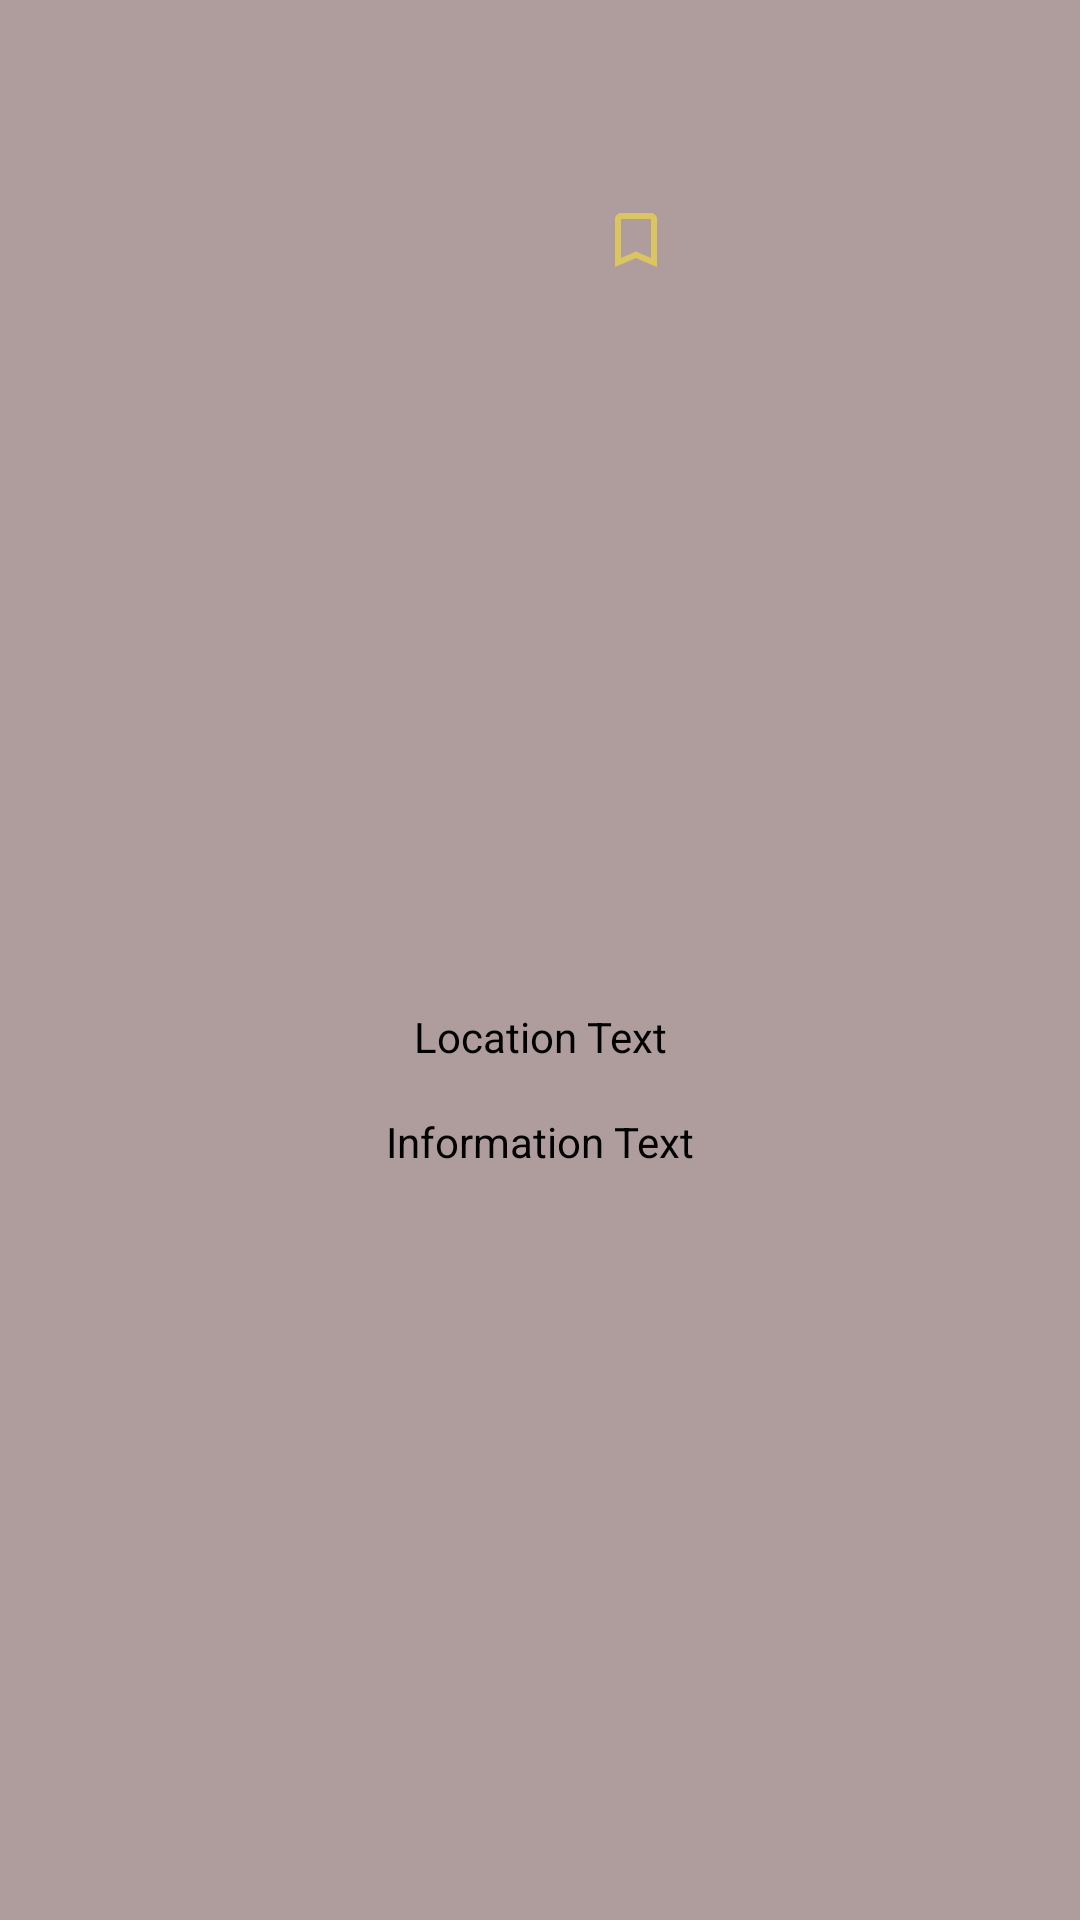

Point at icon controls on the screen. Image size 1080×1920, points as (x,y).
notfavored: (636,240)
